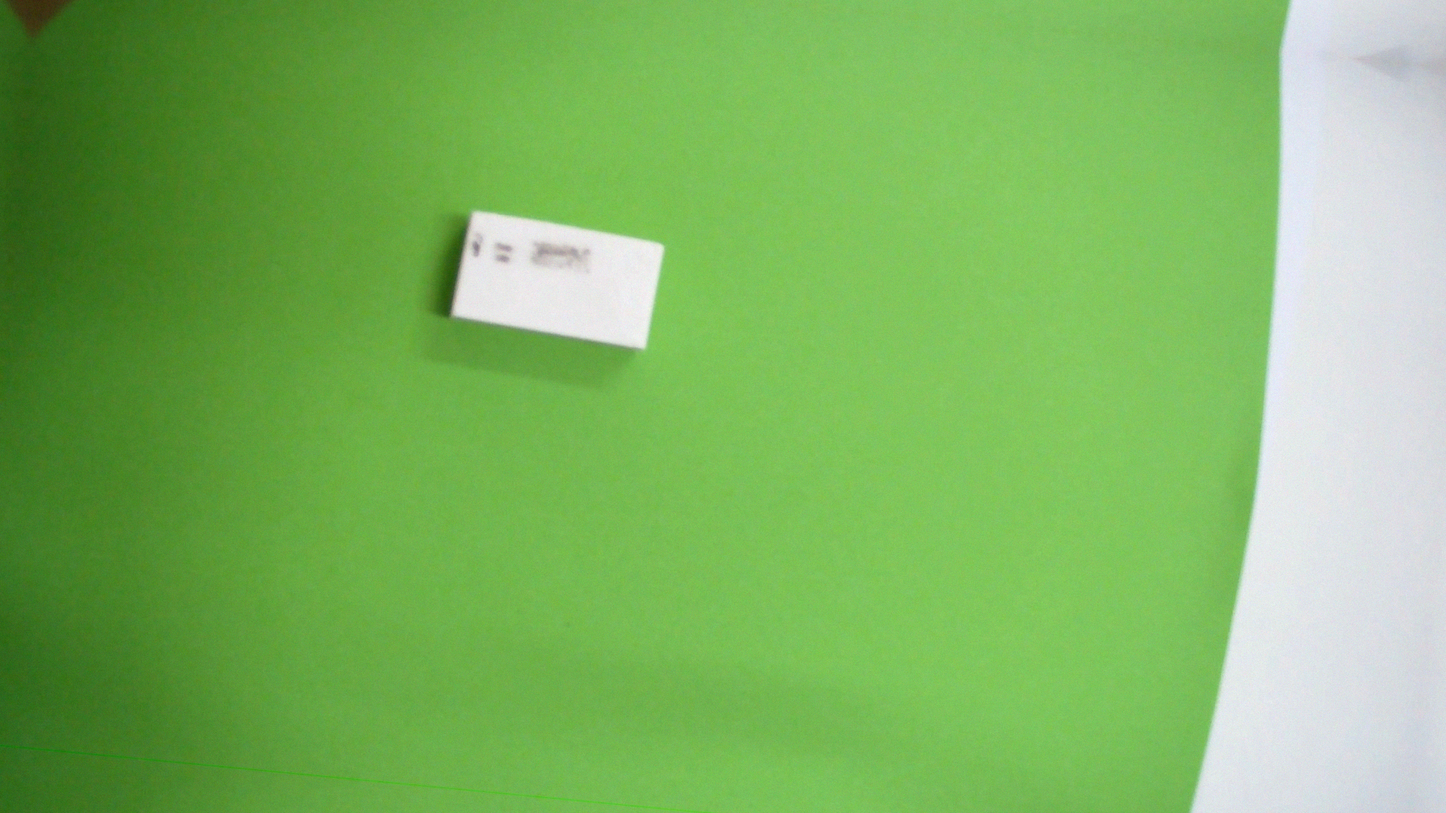gom: (444, 196, 667, 361)
